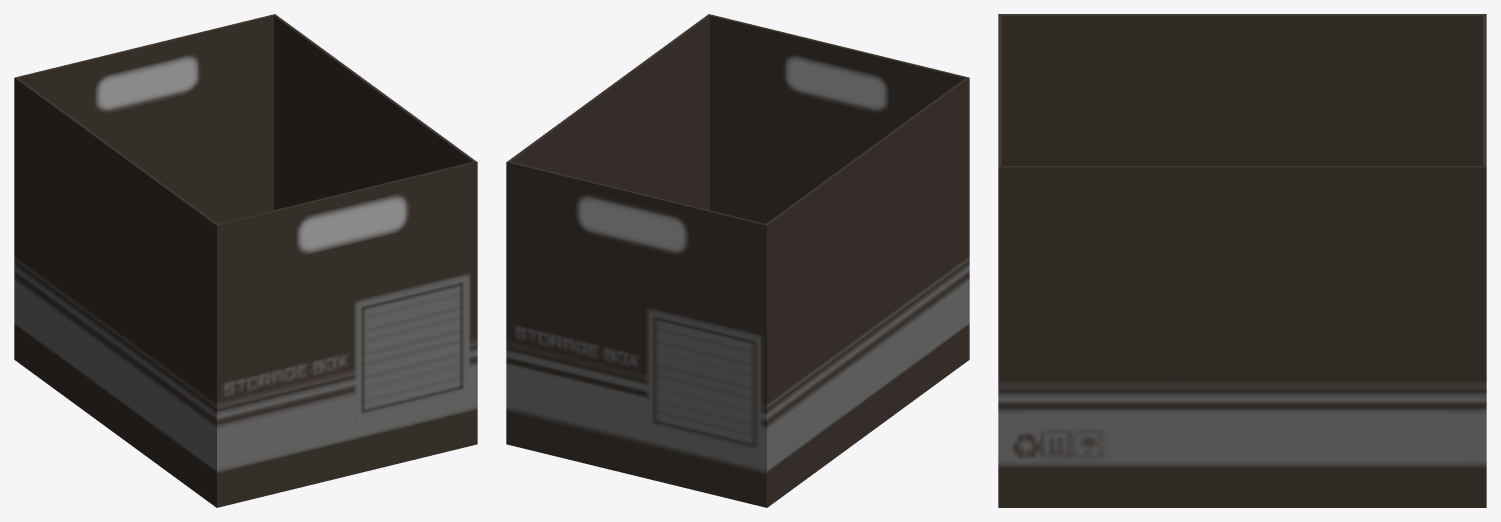
Rendered from FBX_BoxPortableOpen.fbx.
The picture shows the model from 3 angles, left to right: view 1: azimuth 30°, elevation 25°; view 2: azimuth 150°, elevation 25°; view 3: azimuth 270°, elevation 25°; orthographic projection. The views are drawn at different scales.
Visible parts, largest first — view 1: SM_BoxPortableOpen; view 2: SM_BoxPortableOpen; view 3: SM_BoxPortableOpen.
Part boxes in pixels (bbox=[...]): SM_BoxPortableOpen: bbox=[14, 14, 477, 507]; SM_BoxPortableOpen: bbox=[506, 14, 969, 507]; SM_BoxPortableOpen: bbox=[998, 14, 1486, 507].
Size of the model in its own units: 0.29 by 0.3 by 0.39.
